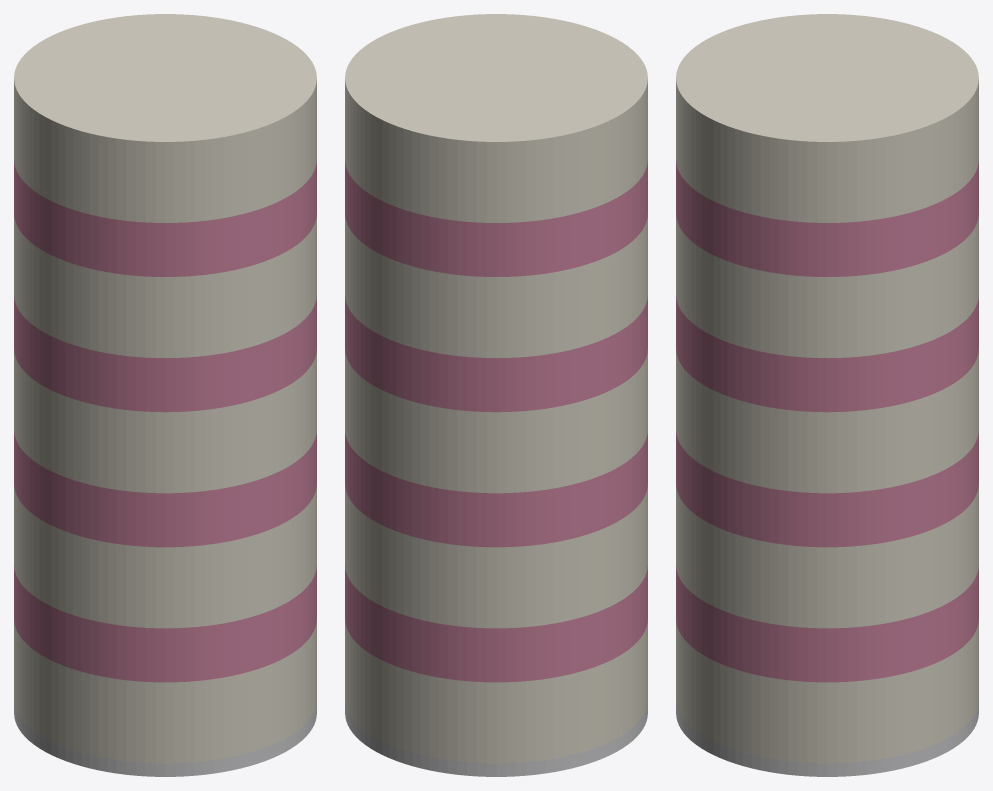
File: cake_4in_layers5.glb
3 renders of one model, left to right at view 1: azimuth 30°, elevation 25°; view 2: azimuth 150°, elevation 25°; view 3: azimuth 270°, elevation 25°, orthographic.
Parts seen in each view (by area): view 1: geometry_8, geometry_0, geometry_2, geometry_4, geometry_6, geometry_1, geometry_3, geometry_5, geometry_7, geometry_9; view 2: geometry_8, geometry_0, geometry_2, geometry_4, geometry_6, geometry_1, geometry_3, geometry_5, geometry_7, geometry_9; view 3: geometry_8, geometry_0, geometry_2, geometry_4, geometry_6, geometry_1, geometry_3, geometry_5, geometry_7, geometry_9.
Boxes of the visible parts, <box> form: geometry_8: <box>14,14,316,222</box>; geometry_0: <box>14,620,316,763</box>; geometry_2: <box>14,485,316,628</box>; geometry_4: <box>14,350,316,493</box>; geometry_6: <box>14,215,316,358</box>; geometry_1: <box>14,566,316,682</box>; geometry_3: <box>14,431,316,547</box>; geometry_5: <box>14,296,316,412</box>; geometry_7: <box>14,161,316,276</box>; geometry_9: <box>14,701,316,776</box>; geometry_8: <box>345,14,647,222</box>; geometry_0: <box>345,620,647,763</box>; geometry_2: <box>345,485,647,628</box>; geometry_4: <box>345,350,647,493</box>; geometry_6: <box>345,215,647,358</box>; geometry_1: <box>345,566,647,682</box>; geometry_3: <box>345,431,647,547</box>; geometry_5: <box>345,296,647,412</box>; geometry_7: <box>345,161,647,276</box>; geometry_9: <box>345,701,647,776</box>; geometry_8: <box>676,14,978,222</box>; geometry_0: <box>676,620,978,763</box>; geometry_2: <box>676,485,978,628</box>; geometry_4: <box>676,350,978,493</box>; geometry_6: <box>676,215,978,358</box>; geometry_1: <box>676,566,978,682</box>; geometry_3: <box>676,431,978,547</box>; geometry_5: <box>676,296,978,412</box>; geometry_7: <box>676,161,978,276</box>; geometry_9: <box>676,701,978,776</box>.
Size of the model in its own units: 0.1016 by 0.235 by 0.1016.
